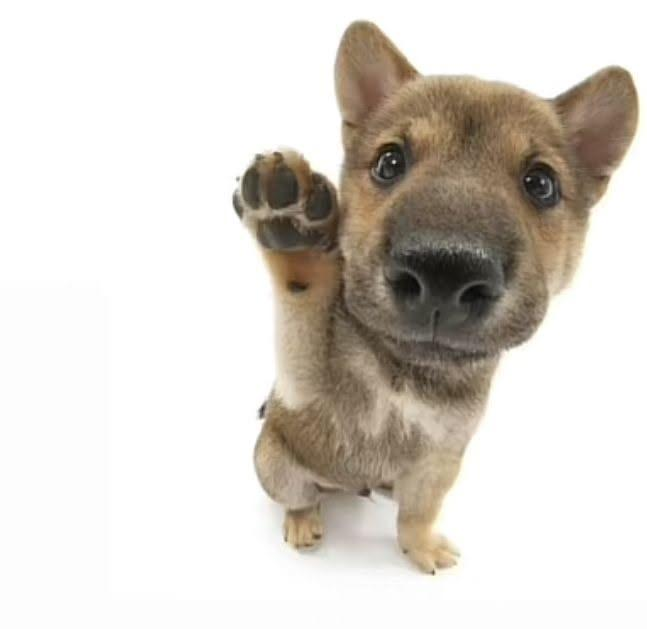puppy-dog: (231, 18, 642, 576)
